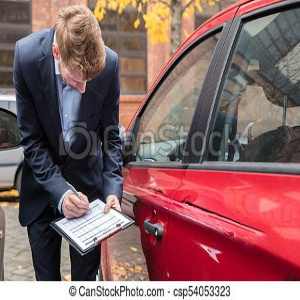door_scratch: (145, 187, 272, 277)
